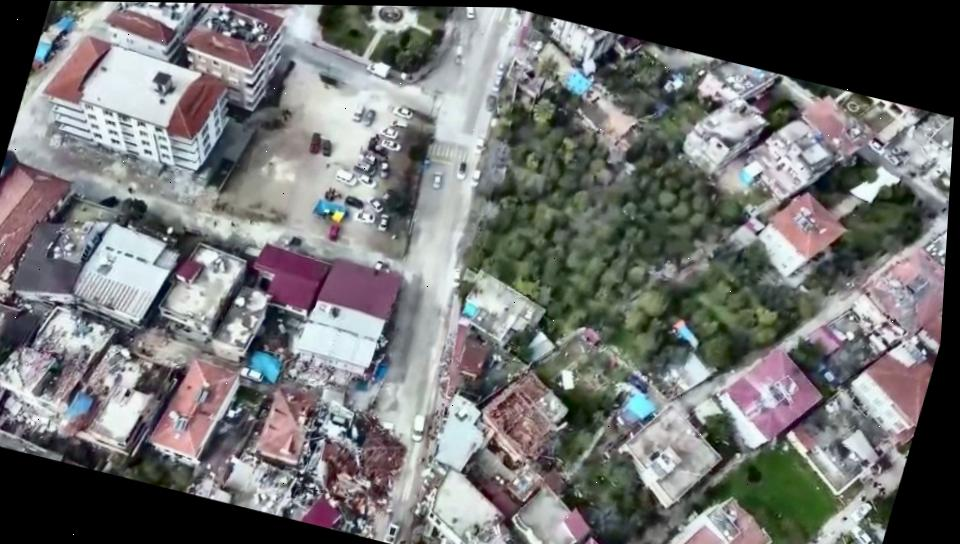kapali: (344, 386, 436, 544)
